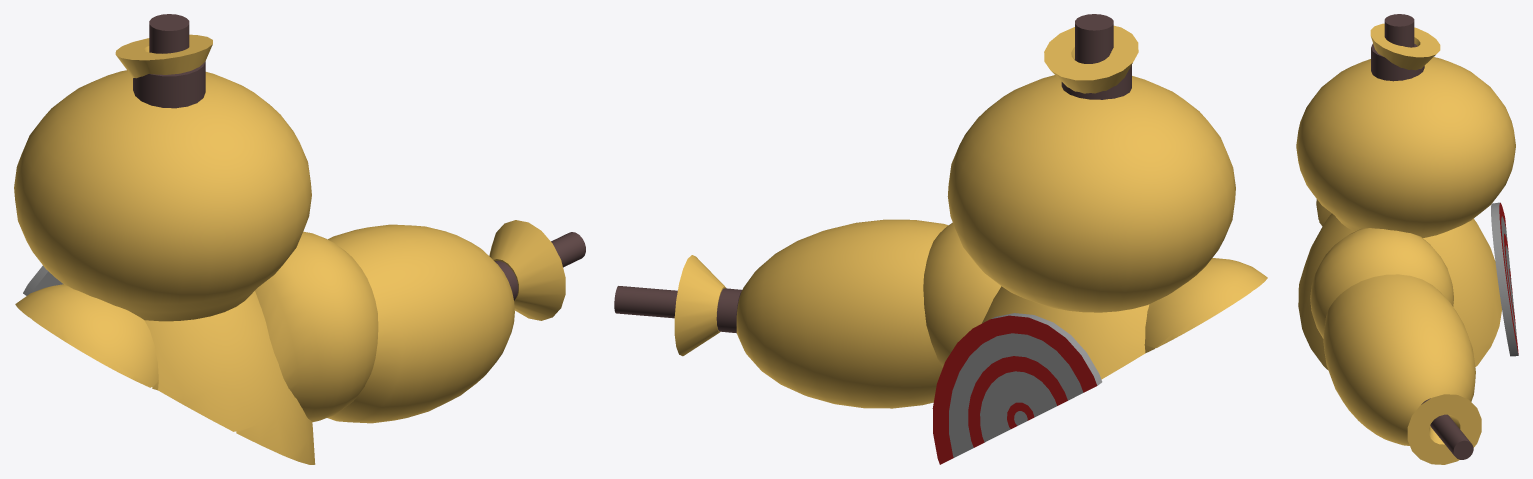
File: pugalo_up.FBX
3 renders of one model, left to right at view 1: azimuth 30°, elevation 25°; view 2: azimuth 150°, elevation 25°; view 3: azimuth 270°, elevation 25°, orthographic. The views are drawn at different scales.
Parts seen in each view (by area): view 1: pugalo_up; view 2: pugalo_up; view 3: pugalo_up.
Part boxes in pixels (<box>): pugalo_up: <box>14,14,585,464</box>; pugalo_up: <box>614,14,1267,464</box>; pugalo_up: <box>1296,14,1518,464</box>.
Bounding box in the file's own units: 1.28 × 0.9194 × 0.555.
